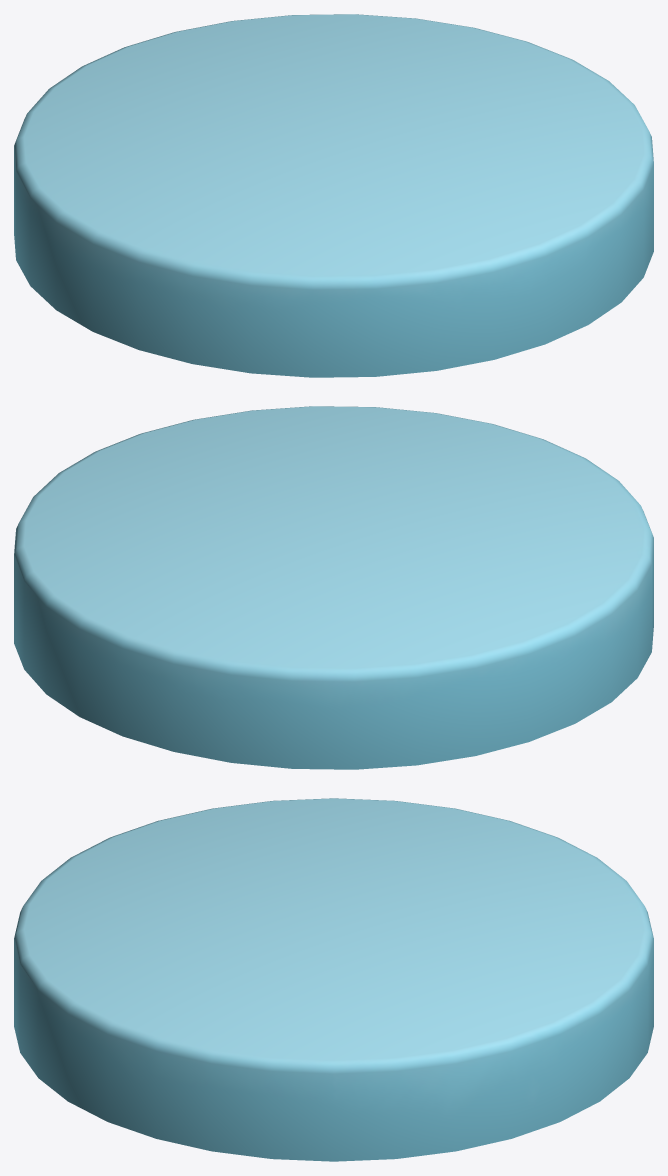
The model's file is dance_lesson.glb.
The picture shows the model from 3 angles, top to bottom: view 1: azimuth 30°, elevation 25°; view 2: azimuth 150°, elevation 25°; view 3: azimuth 270°, elevation 25°; orthographic projection.
Parts seen in each view (by area): view 1: dance_lesson; view 2: dance_lesson; view 3: dance_lesson.
Boxes of the visible parts, <box> form: dance_lesson: <box>14,14,653,377</box>; dance_lesson: <box>14,406,653,769</box>; dance_lesson: <box>14,798,653,1161</box>.
Size of the model in its own units: 0.3536 by 0.059 by 0.3536.
Materials: 1 (1 with a texture image).
